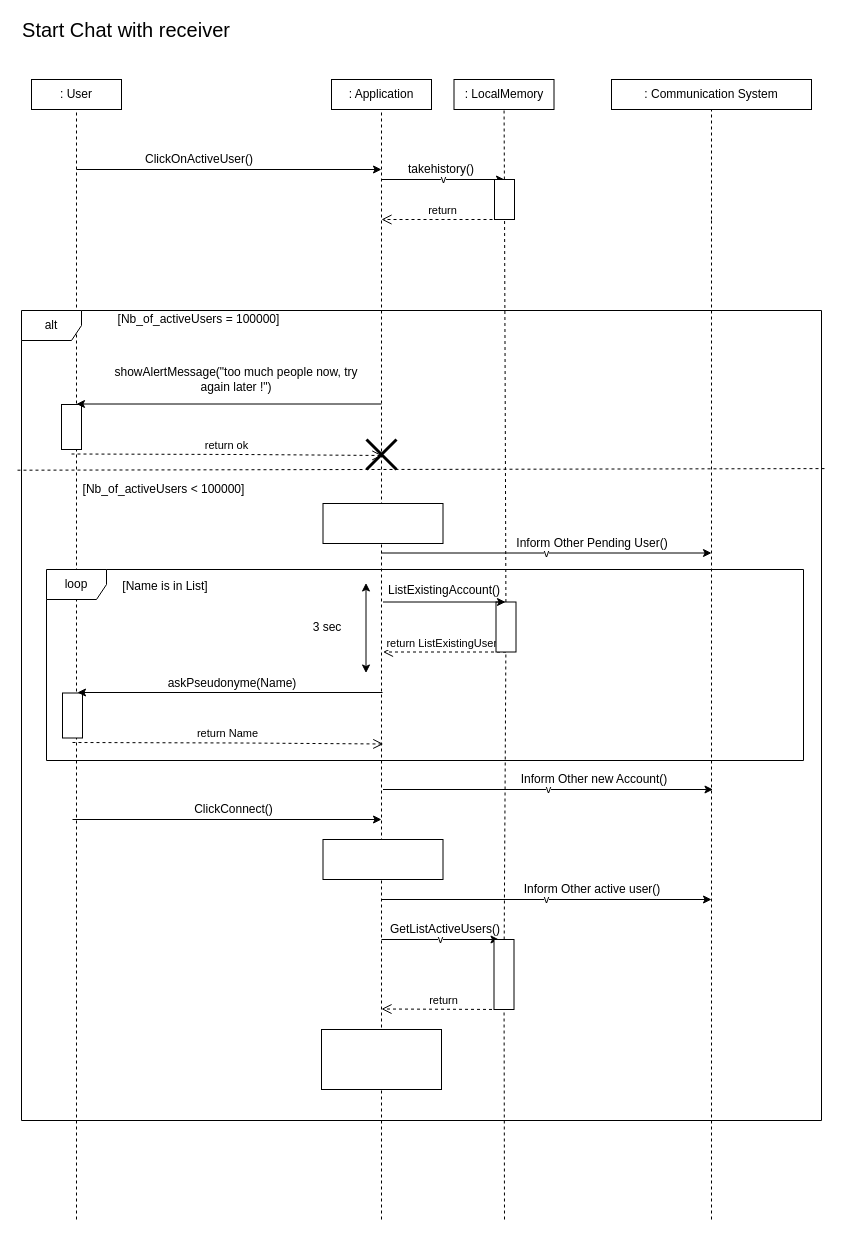
Some shapes in this 845 by 1238 pixel diagram are drawn without their labels. The centre of each missing label's shape, as x and y in pixels:
open application's window with identified active users: the point at 381,1059
state = active: the point at 382,859
state = pending: the point at 382,523
